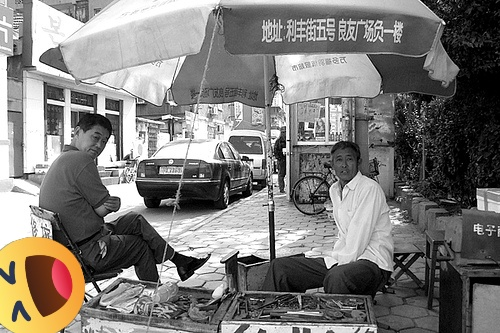haha: (0, 237, 85, 333)
